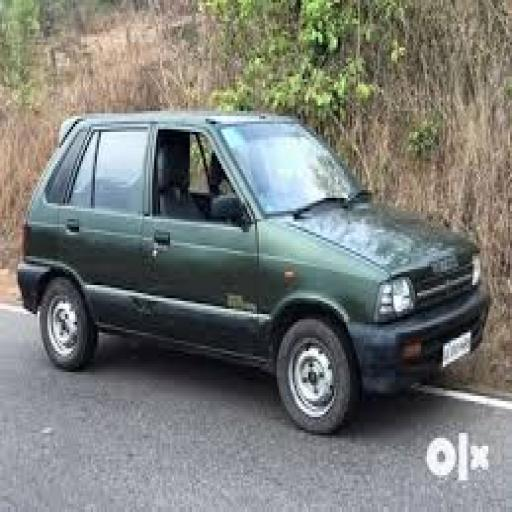License: (441, 331, 476, 363)
